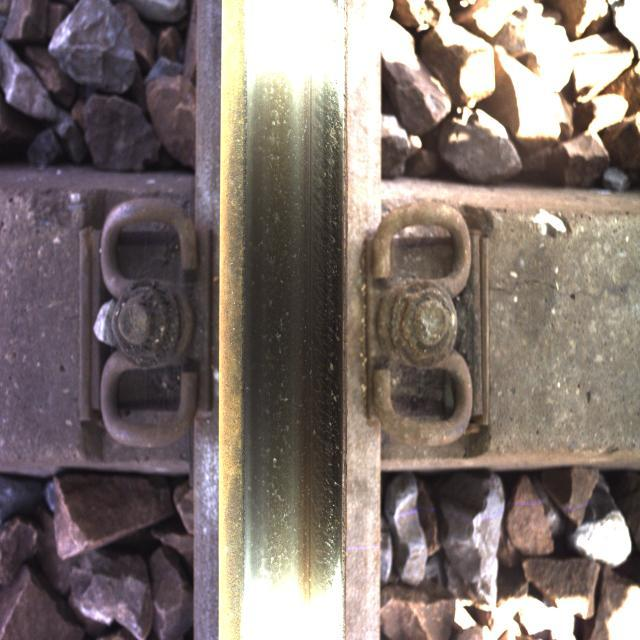normal: (244, 40, 341, 581)
